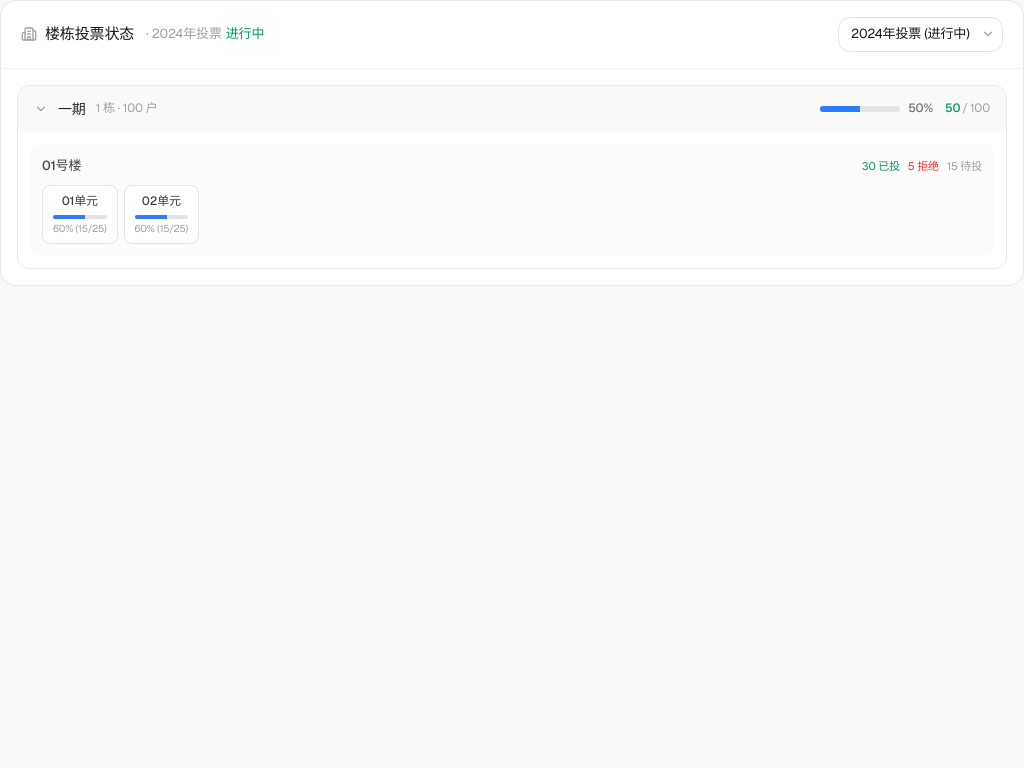
BuildingVoteVisualization › 取消批量模式应该清除选择
Click the text "01单元". click: coordinates (80, 202)
box: [62,192,98,211]
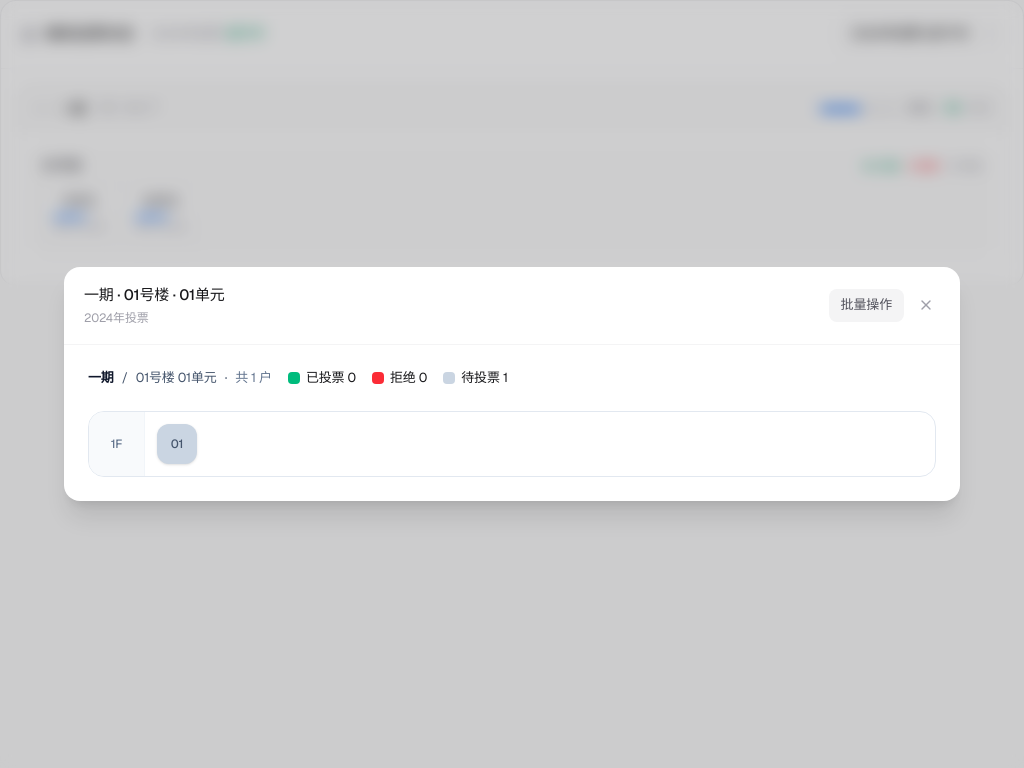
Check: the button "批量操作" is shown
Click the button "批量操作". click: coordinates (866, 305)
box: [829,289,904,322]
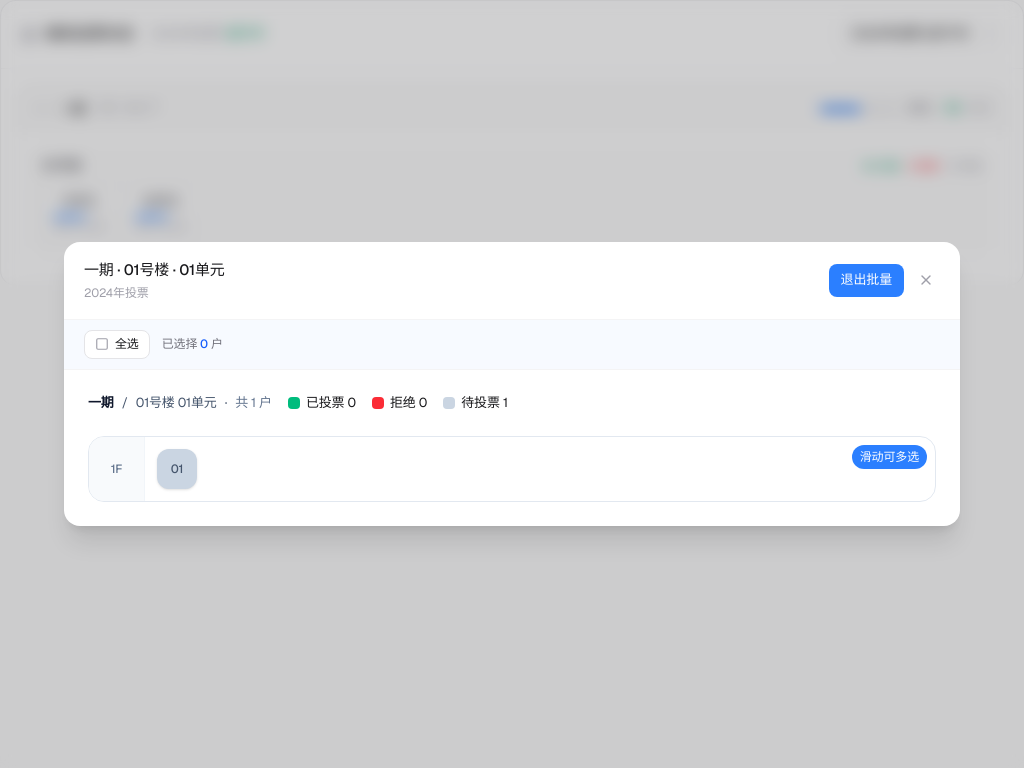
Check: the button "退出批量" is shown
Click the button "退出批量". click: coordinates (866, 280)
box: [829,264,904,296]
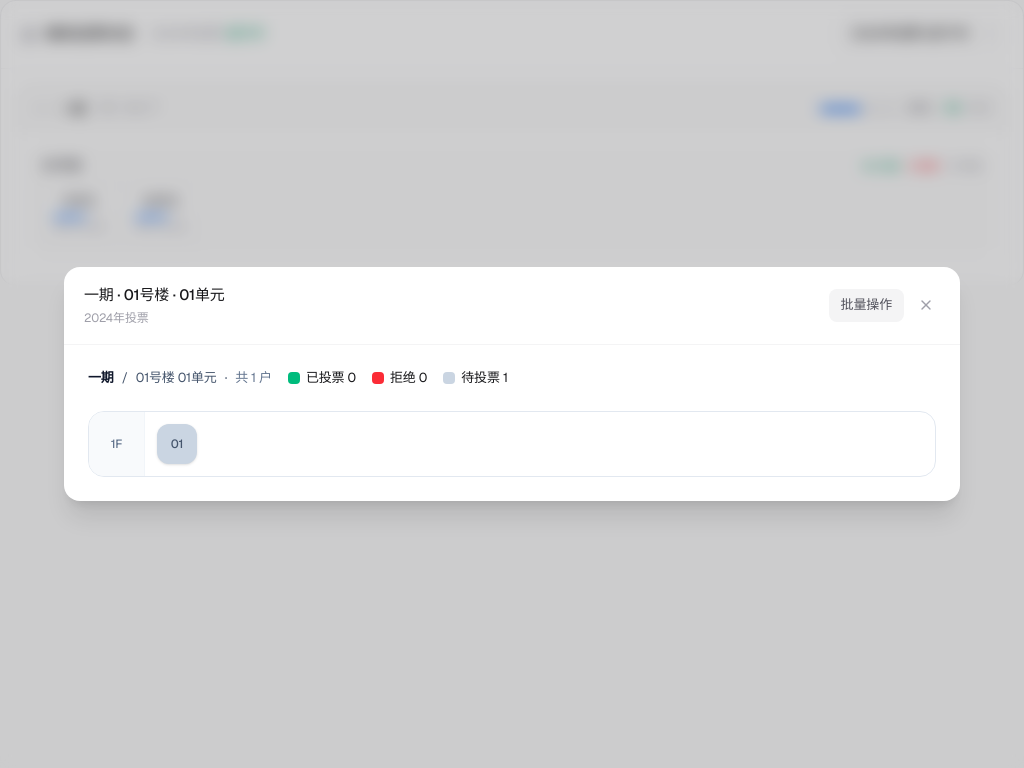
Check: the button "批量操作" is shown, box [829,289,904,322]
